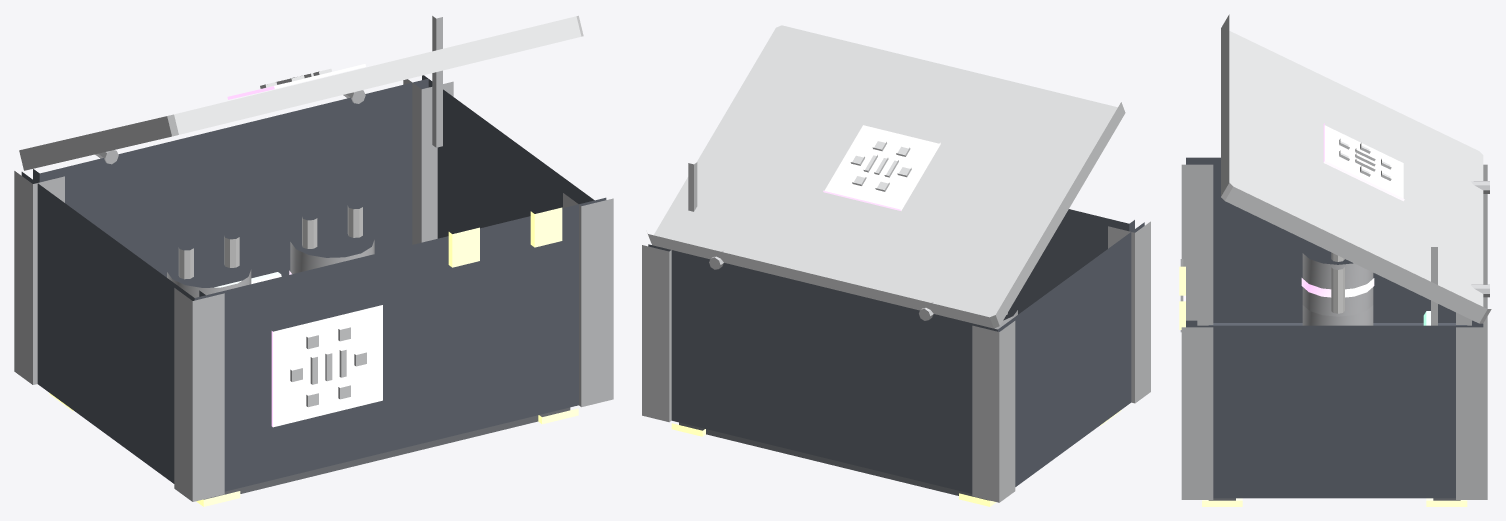
File: iter_02_204.glb
3 renders of one model, left to right at view 1: azimuth 30°, elevation 25°; view 2: azimuth 150°, elevation 25°; view 3: azimuth 270°, elevation 25°, orthographic. The views are drawn at different scales.
Parts seen in each view (by area): view 1: Body_204, Corner_Guards_204, Lid_204, Glyph_Plate_204, Skids_204, Latches_204, Emitter_ceramic_204, Glyph_Marks_204, Emitter_alloy_204, Lid_Prop_204, Floor_Clamps_204; view 2: Lid_204, Body_204, Corner_Guards_204, Lid_Glyph_204, Skids_204, Lid_Glyph_Marks_204; view 3: Body_204, Lid_204, Corner_Guards_204, Emitter_alloy_204, Lid_Glyph_204, Emitter_ceramic_204, Floor_Clamps_204, Lid_Glyph_Marks_204, Emitter_violet_204, Emitter_slate_204, Lid_Prop_204, Latches_204.
Boxes of the visible parts, x1,y1,x2,y2 form: Body_204: (21,75,606,491); Corner_Guards_204: (14,79,613,501); Lid_204: (19,15,583,170); Glyph_Plate_204: (271,305,382,427); Skids_204: (204,407,570,499); Latches_204: (448,207,562,267); Emitter_ceramic_204: (178,205,362,279); Glyph_Marks_204: (290,327,366,407); Emitter_alloy_204: (167,240,374,297); Lid_Prop_204: (432,16,442,147); Floor_Clamps_204: (49,393,578,506); Lid_204: (647,25,1125,328); Body_204: (648,209,1144,493); Corner_Guards_204: (642,221,1150,502); Lid_Glyph_204: (823,125,940,210); Skids_204: (679,422,989,500); Lid_Glyph_Marks_204: (850,141,911,191); Body_204: (1186,157,1483,498); Lid_204: (1221,14,1491,323); Corner_Guards_204: (1181,164,1487,499); Emitter_alloy_204: (1302,253,1373,325); Lid_Glyph_204: (1323,123,1404,201); Emitter_ceramic_204: (1331,252,1344,313); Floor_Clamps_204: (1202,498,1467,506); Lid_Glyph_Marks_204: (1339,139,1391,180); Emitter_violet_204: (1301,278,1374,297); Emitter_slate_204: (1208,323,1467,325); Lid_Prop_204: (1431,247,1437,325); Latches_204: (1179,266,1185,329).
Size of the model in its own units: 0.92 by 0.8028 by 0.6888.
